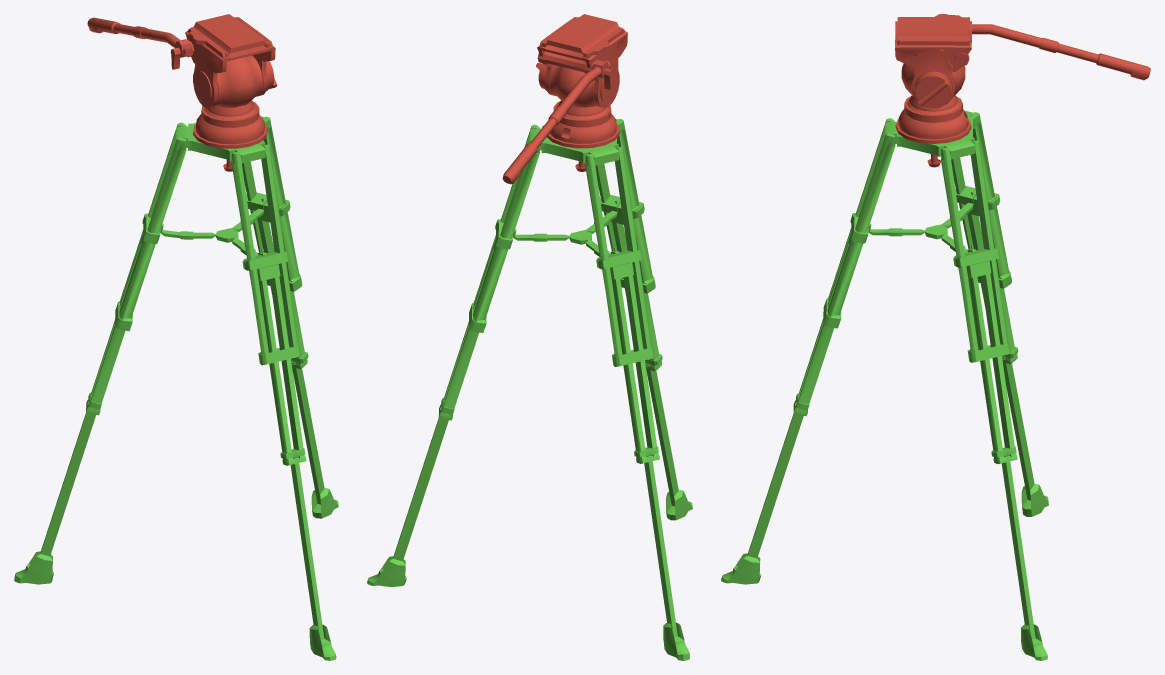
Rendered from Modern High End Tripod Medium.fbx.
3 renders of one model, left to right at view 1: azimuth 30°, elevation 25°; view 2: azimuth 150°, elevation 25°; view 3: azimuth 270°, elevation 25°, orthographic.
Parts seen in each view (by area): view 1: Cylinder.002; view 2: Cylinder.002; view 3: Cylinder.002.
Part boxes in pixels (x1,y1,x2,y2): Cylinder.002: (14, 14, 338, 660); Cylinder.002: (367, 14, 692, 660); Cylinder.002: (721, 14, 1150, 660).
Bounding box in the file's own units: 110 × 181 × 126.
